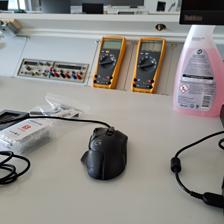mouse: (79, 126, 129, 181)
